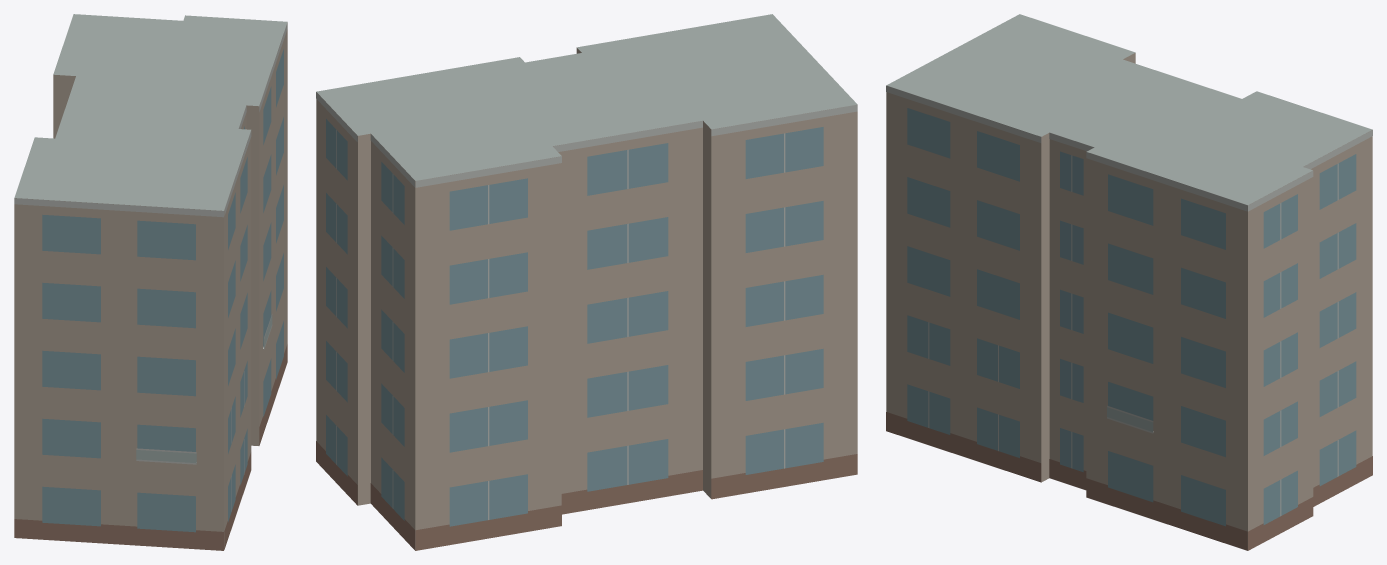
The model's file is survey-upis-32939030.glb.
3 views of the same model, side by side, from view 1: azimuth 30°, elevation 25°; view 2: azimuth 150°, elevation 25°; view 3: azimuth 270°, elevation 25° (orthographic). The views are drawn at different scales.
Parts seen in each view (by area): view 1: survey-upis-32939030.tmp; view 2: survey-upis-32939030.tmp; view 3: survey-upis-32939030.tmp.
Part boxes in pixels (x1=…): survey-upis-32939030.tmp: x1=14, y1=14, x2=287, y2=550; survey-upis-32939030.tmp: x1=316, y1=14, x2=857, y2=550; survey-upis-32939030.tmp: x1=886, y1=14, x2=1372, y2=550.
Bounding box in the file's own units: 15.56 × 13.1 × 16.73.
